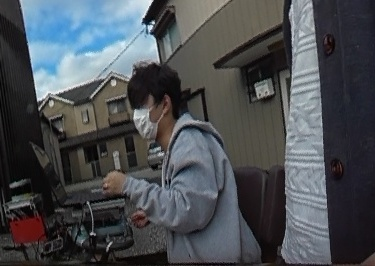person: (119, 60, 256, 266)
